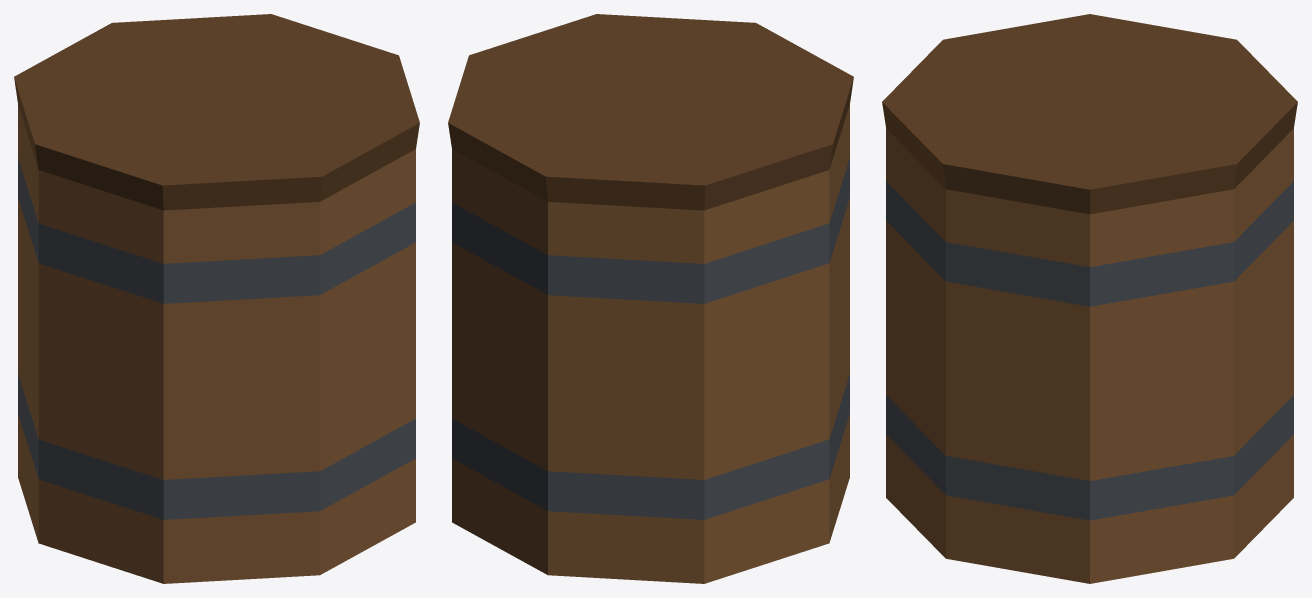
Rendered from ind_barrel.glb.
The picture shows the model from 3 angles, left to right: view 1: azimuth 30°, elevation 25°; view 2: azimuth 150°, elevation 25°; view 3: azimuth 270°, elevation 25°; orthographic projection.
Visible parts, largest first — view 1: ind_barrel; view 2: ind_barrel; view 3: ind_barrel.
Part boxes in pixels (x1,y1,x2,y2): ind_barrel: (14, 14, 419, 583); ind_barrel: (448, 14, 853, 583); ind_barrel: (882, 14, 1297, 583).
Size of the model in its own units: 0.0857 by 0.09 by 0.0857.
